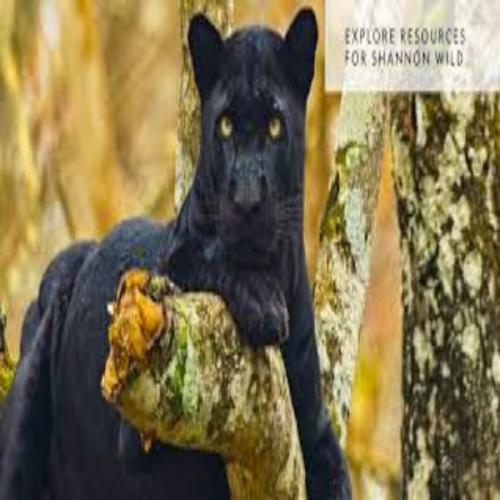panther-endangered: (10, 10, 351, 486)
